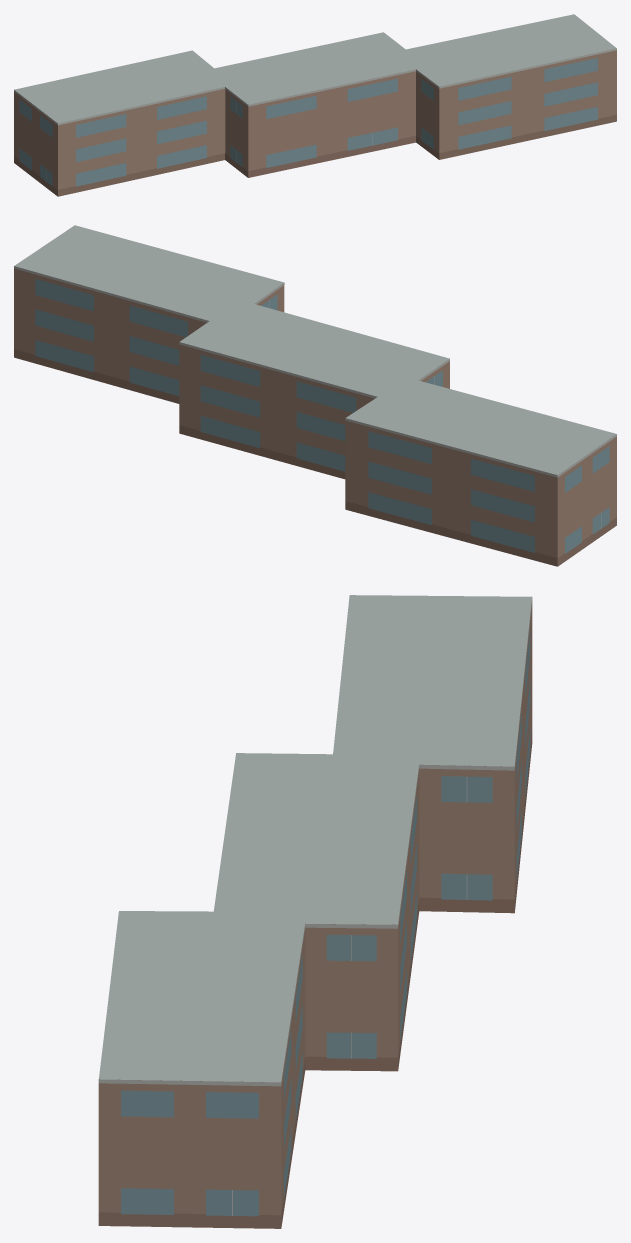
Rendered from survey-upis-32886320.glb.
3 views of the same model, one above another, from view 1: azimuth 30°, elevation 25°; view 2: azimuth 150°, elevation 25°; view 3: azimuth 270°, elevation 25° (orthographic). The views are drawn at different scales.
Parts seen in each view (by area): view 1: survey-upis-32886320.tmp; view 2: survey-upis-32886320.tmp; view 3: survey-upis-32886320.tmp.
Part boxes in pixels (bbox=[...]): survey-upis-32886320.tmp: bbox=[14, 14, 616, 196]; survey-upis-32886320.tmp: bbox=[14, 225, 616, 566]; survey-upis-32886320.tmp: bbox=[98, 595, 532, 1228].
Bounding box in the file's own units: 65.3 × 9.15 × 24.55.
